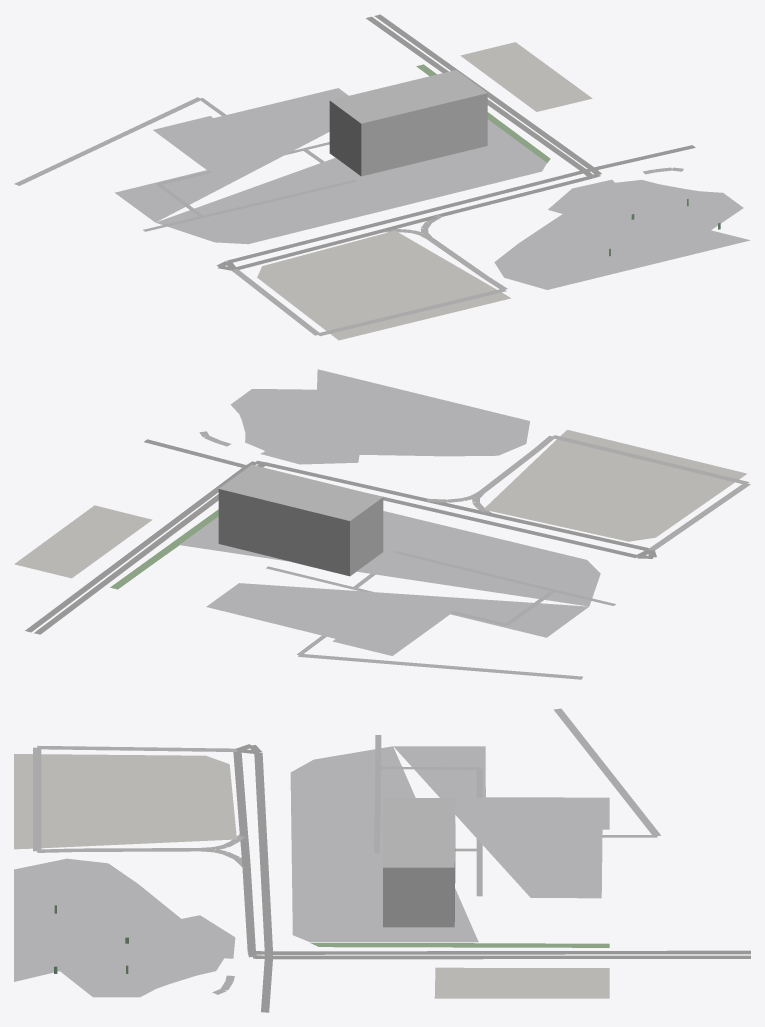
The picture shows the model from 3 angles, top to bottom: view 1: azimuth 30°, elevation 25°; view 2: azimuth 150°, elevation 25°; view 3: azimuth 270°, elevation 25°; orthographic projection. The views are drawn at different scales.
Size of the model in its own units: 603 by 56.44 by 619.
